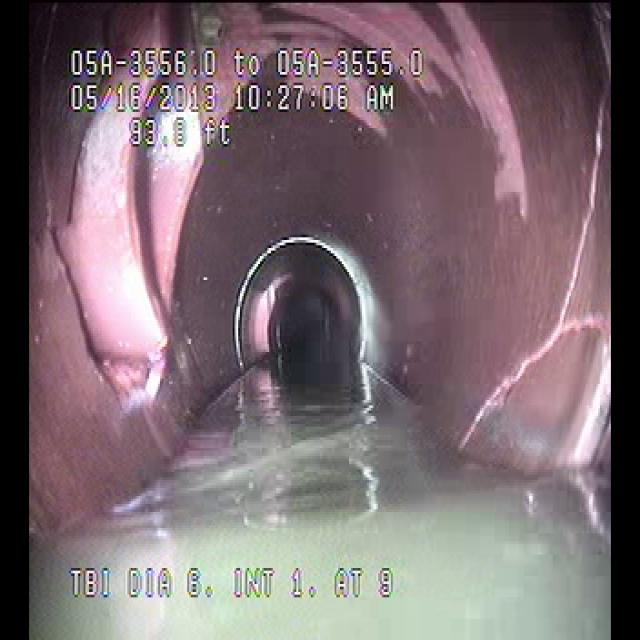Fracture: (464, 99, 606, 464), (39, 175, 207, 463)
